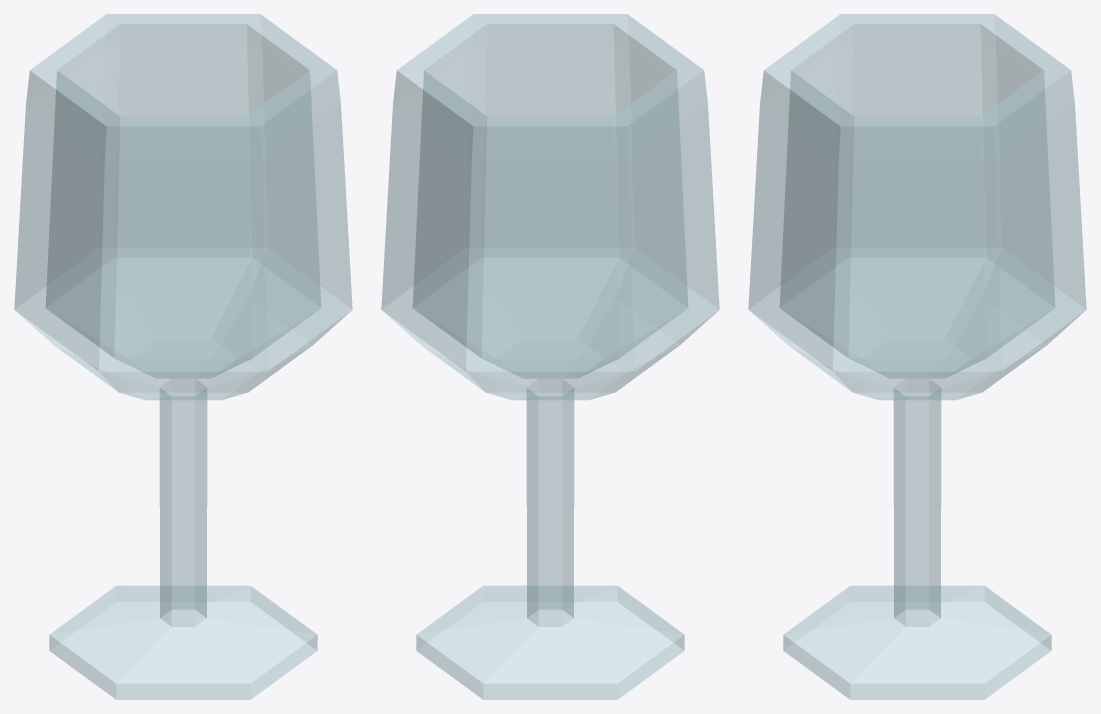
The model's file is wine_glass.fbx.
The picture shows the model from 3 angles, left to right: view 1: azimuth 30°, elevation 25°; view 2: azimuth 150°, elevation 25°; view 3: azimuth 270°, elevation 25°; orthographic projection.
Parts seen in each view (by area): view 1: wine_glass; view 2: wine_glass; view 3: wine_glass.
Boxes of the visible parts, x1,y1,x2,y2 form: wine_glass: (14, 14, 352, 699); wine_glass: (381, 14, 719, 699); wine_glass: (748, 14, 1086, 699).
Bounding box in the file's own units: 46.92 × 103 × 54.17.
